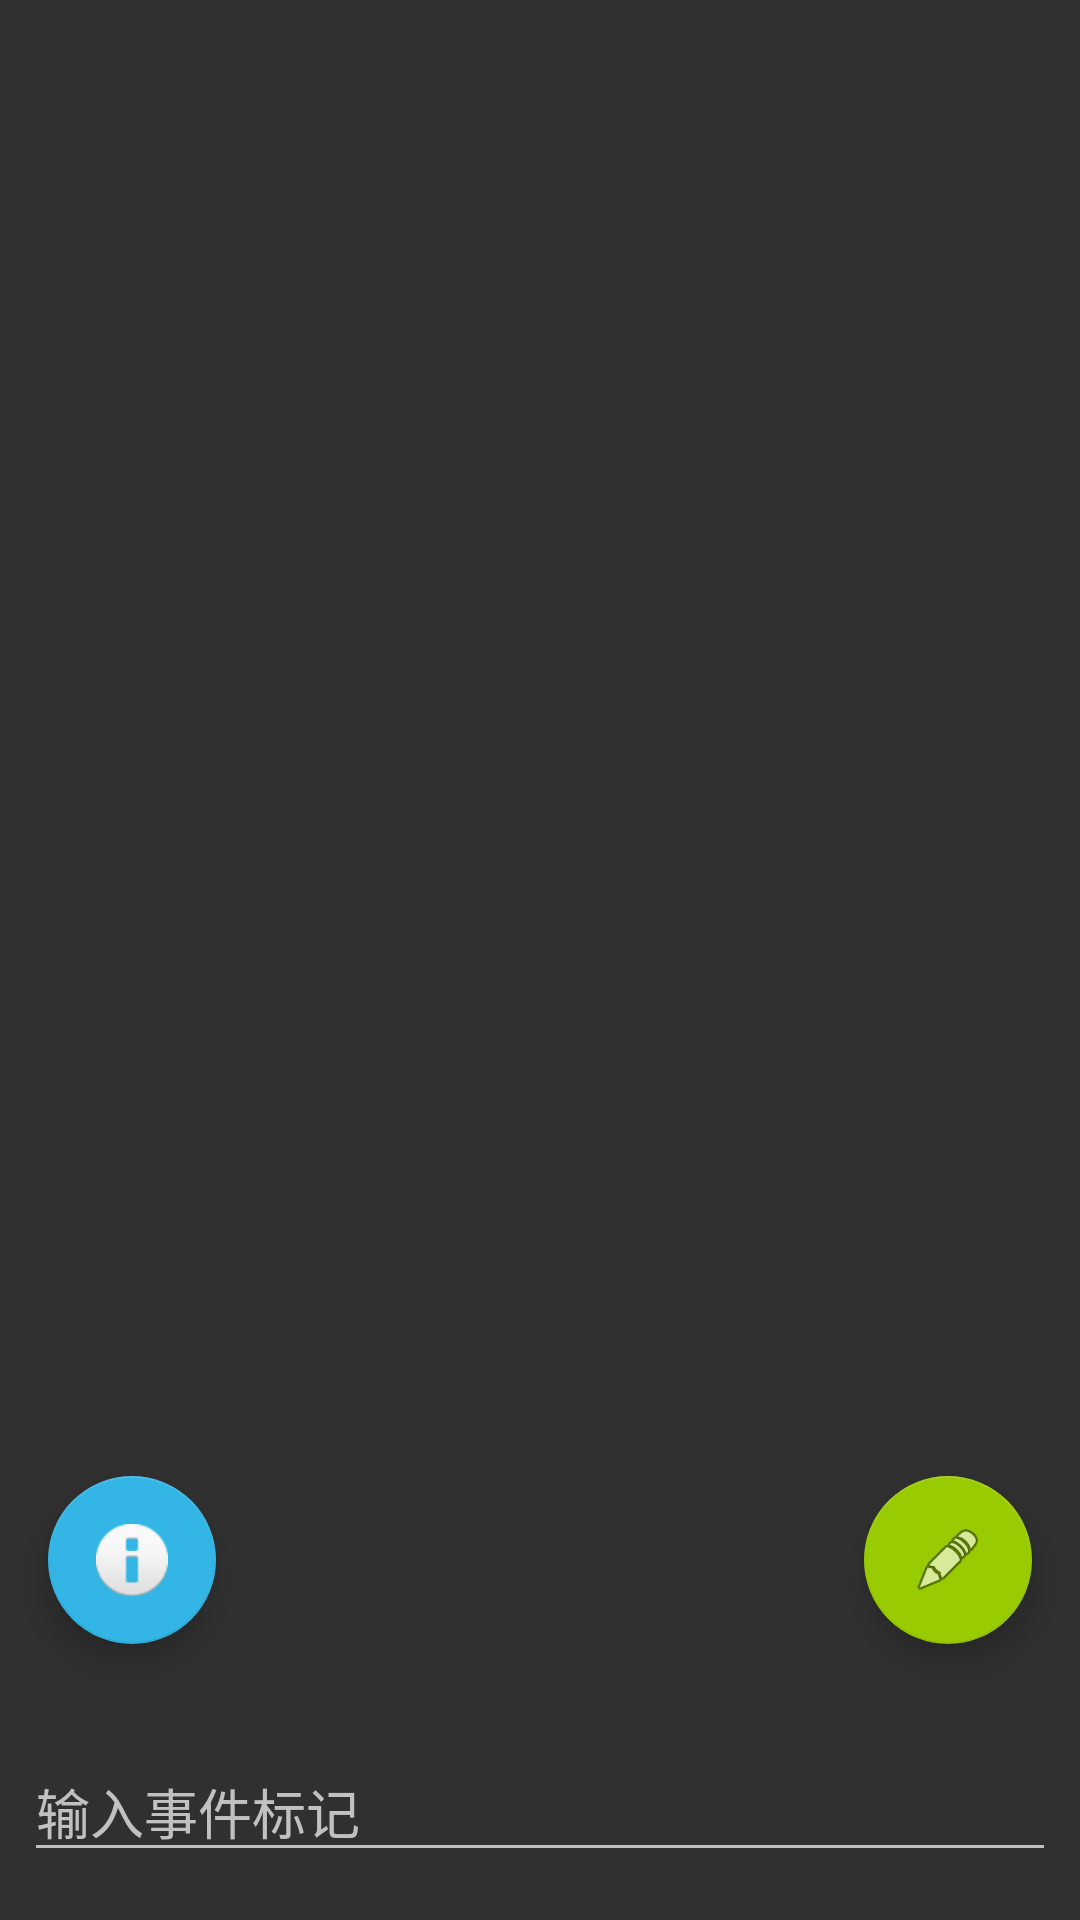

Screen size 1080 x 1920. Icon name, then its center in pixels as [x,y]:
edit: [948,1560]
info: [132,1560]
